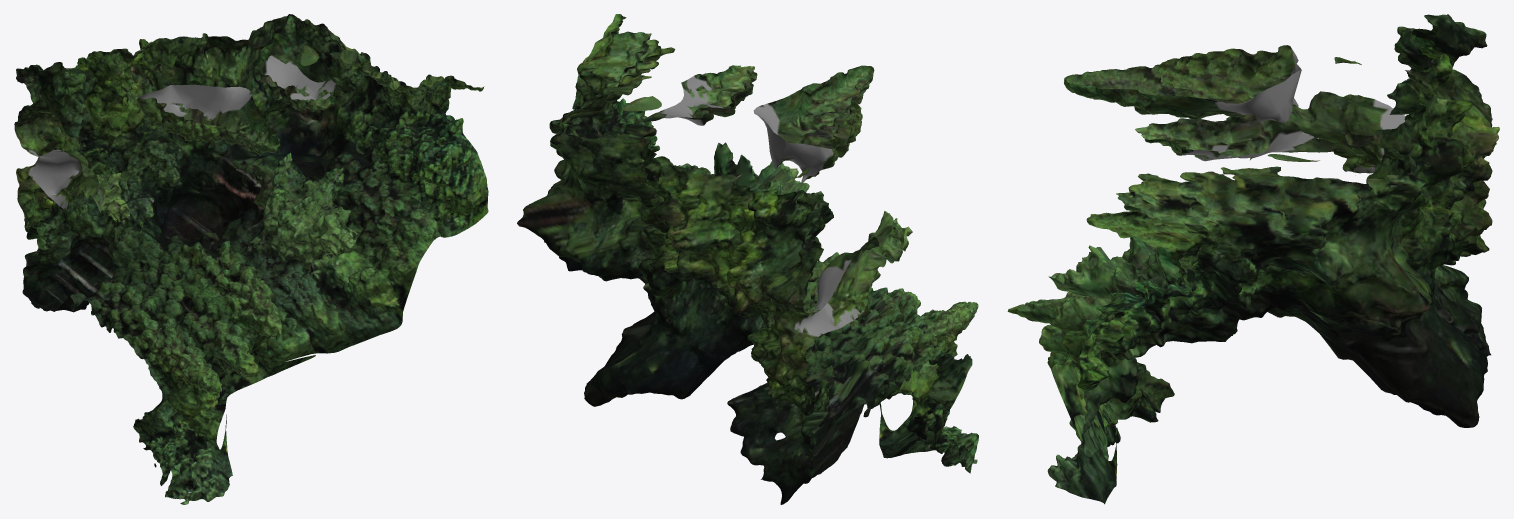
The model's file is Tile_+022_+006.fbx.
3 renders of one model, left to right at view 1: azimuth 30°, elevation 25°; view 2: azimuth 150°, elevation 25°; view 3: azimuth 270°, elevation 25°, orthographic. The views are drawn at different scales.
Visible parts, largest first — view 1: DefaultName; view 2: DefaultName; view 3: DefaultName.
Boxes of the visible parts, x1,y1,x2,y2 form: DefaultName: [14, 14, 488, 504]; DefaultName: [517, 14, 978, 504]; DefaultName: [1007, 14, 1499, 504].
Bounding box in the file's own units: 22.54 × 22.54 × 22.67.
